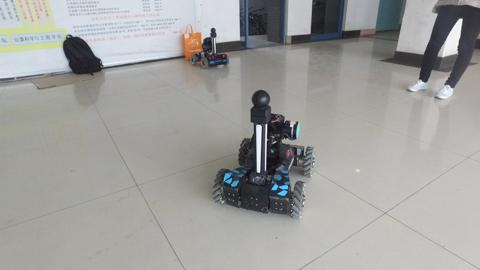bag: (61, 31, 105, 79), (180, 21, 203, 62)
chariot: (210, 88, 316, 221), (189, 25, 230, 71)
